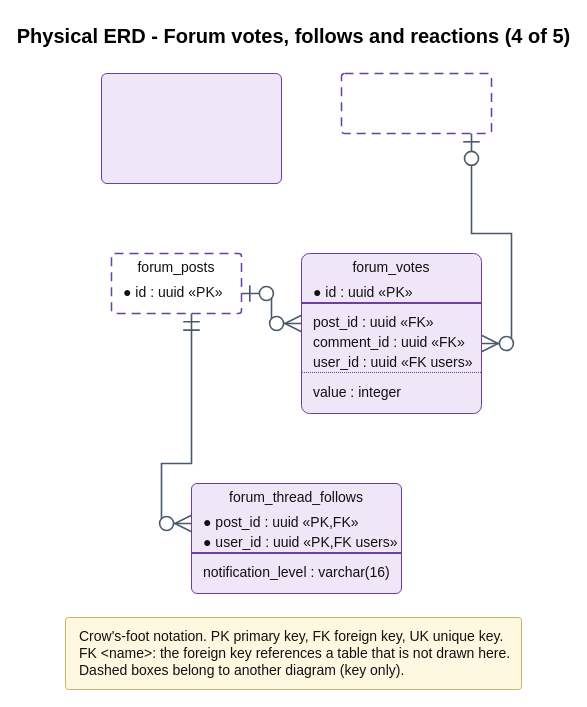
Image size: 587x707. Some labels were removed from this diagram. Each missing label, with the centre of its shape:
"forum_comments ● id : uuid «PK»" goes at point (416, 103).
"forum_reactions ● id : uuid «PK» target_type : varchar(16) target_id : uuid" goes at point (191, 128).
